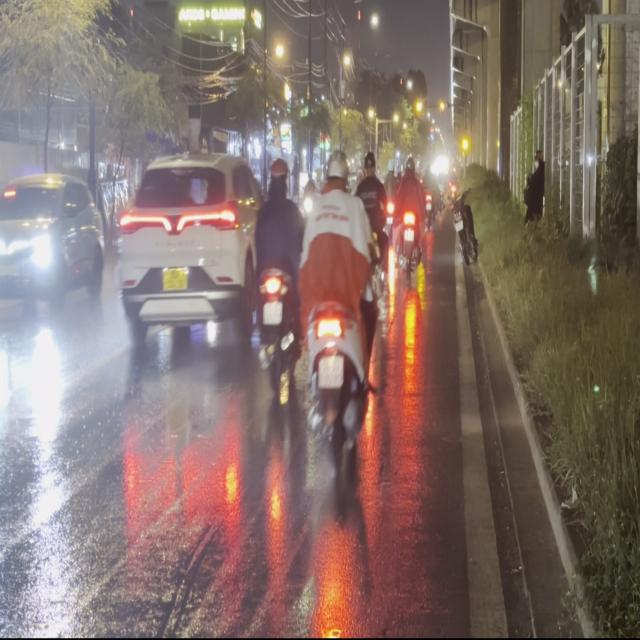helmet: (325, 148, 351, 190), (266, 153, 289, 193)
licenseplate: (300, 144, 389, 479), (247, 151, 306, 391)
nohelmet: (316, 354, 342, 386), (262, 301, 282, 323)
